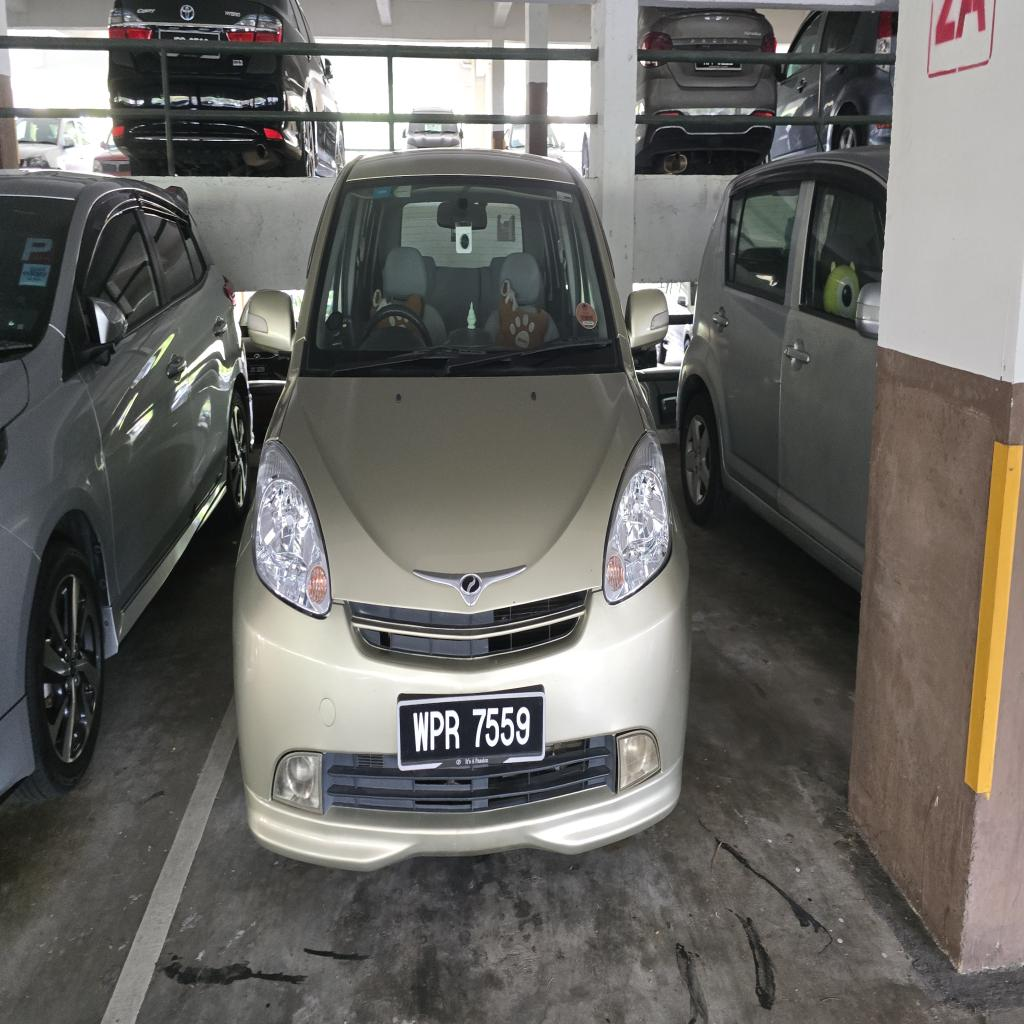car: (234, 151, 690, 868)
car plate: (398, 689, 545, 770)
